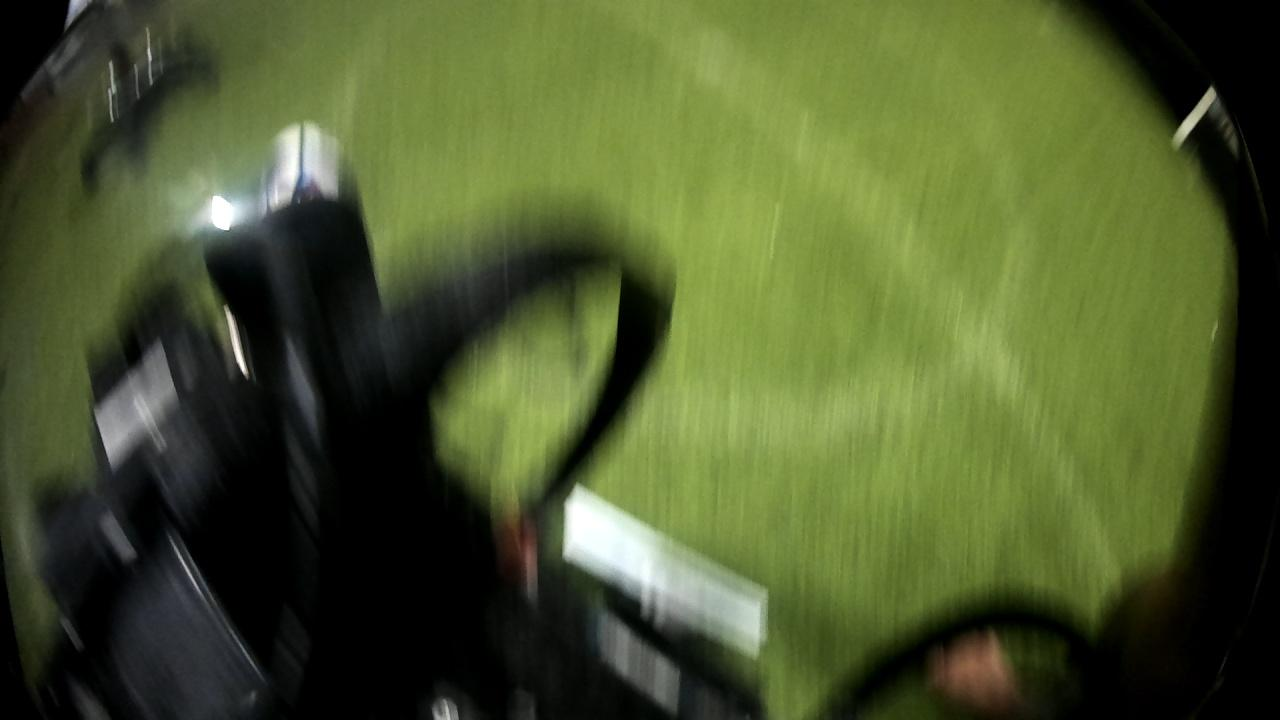ball: (256, 106, 360, 221)
